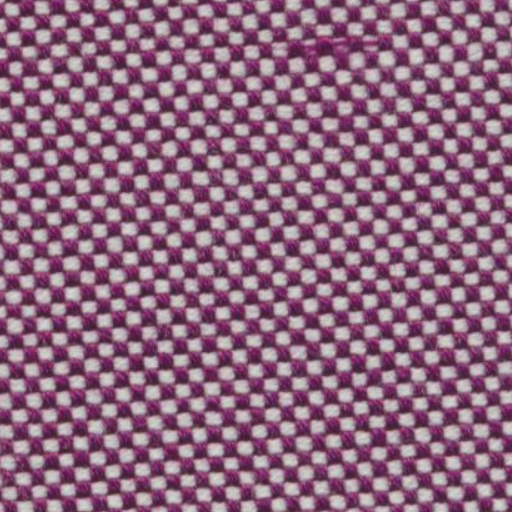DuanSha: (272, 27, 408, 70)
